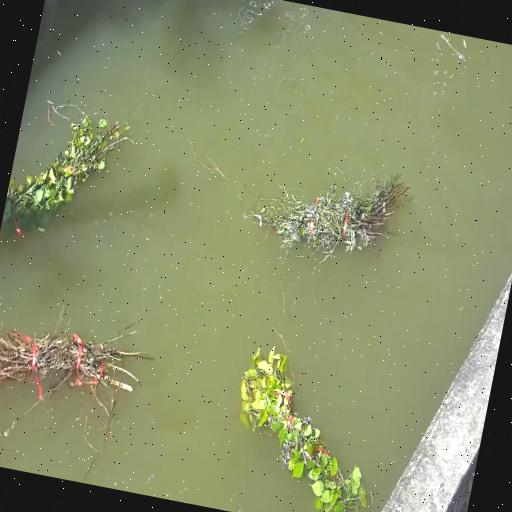twig: (215, 342, 390, 512), (0, 87, 142, 256), (244, 144, 417, 270), (0, 302, 153, 423)
